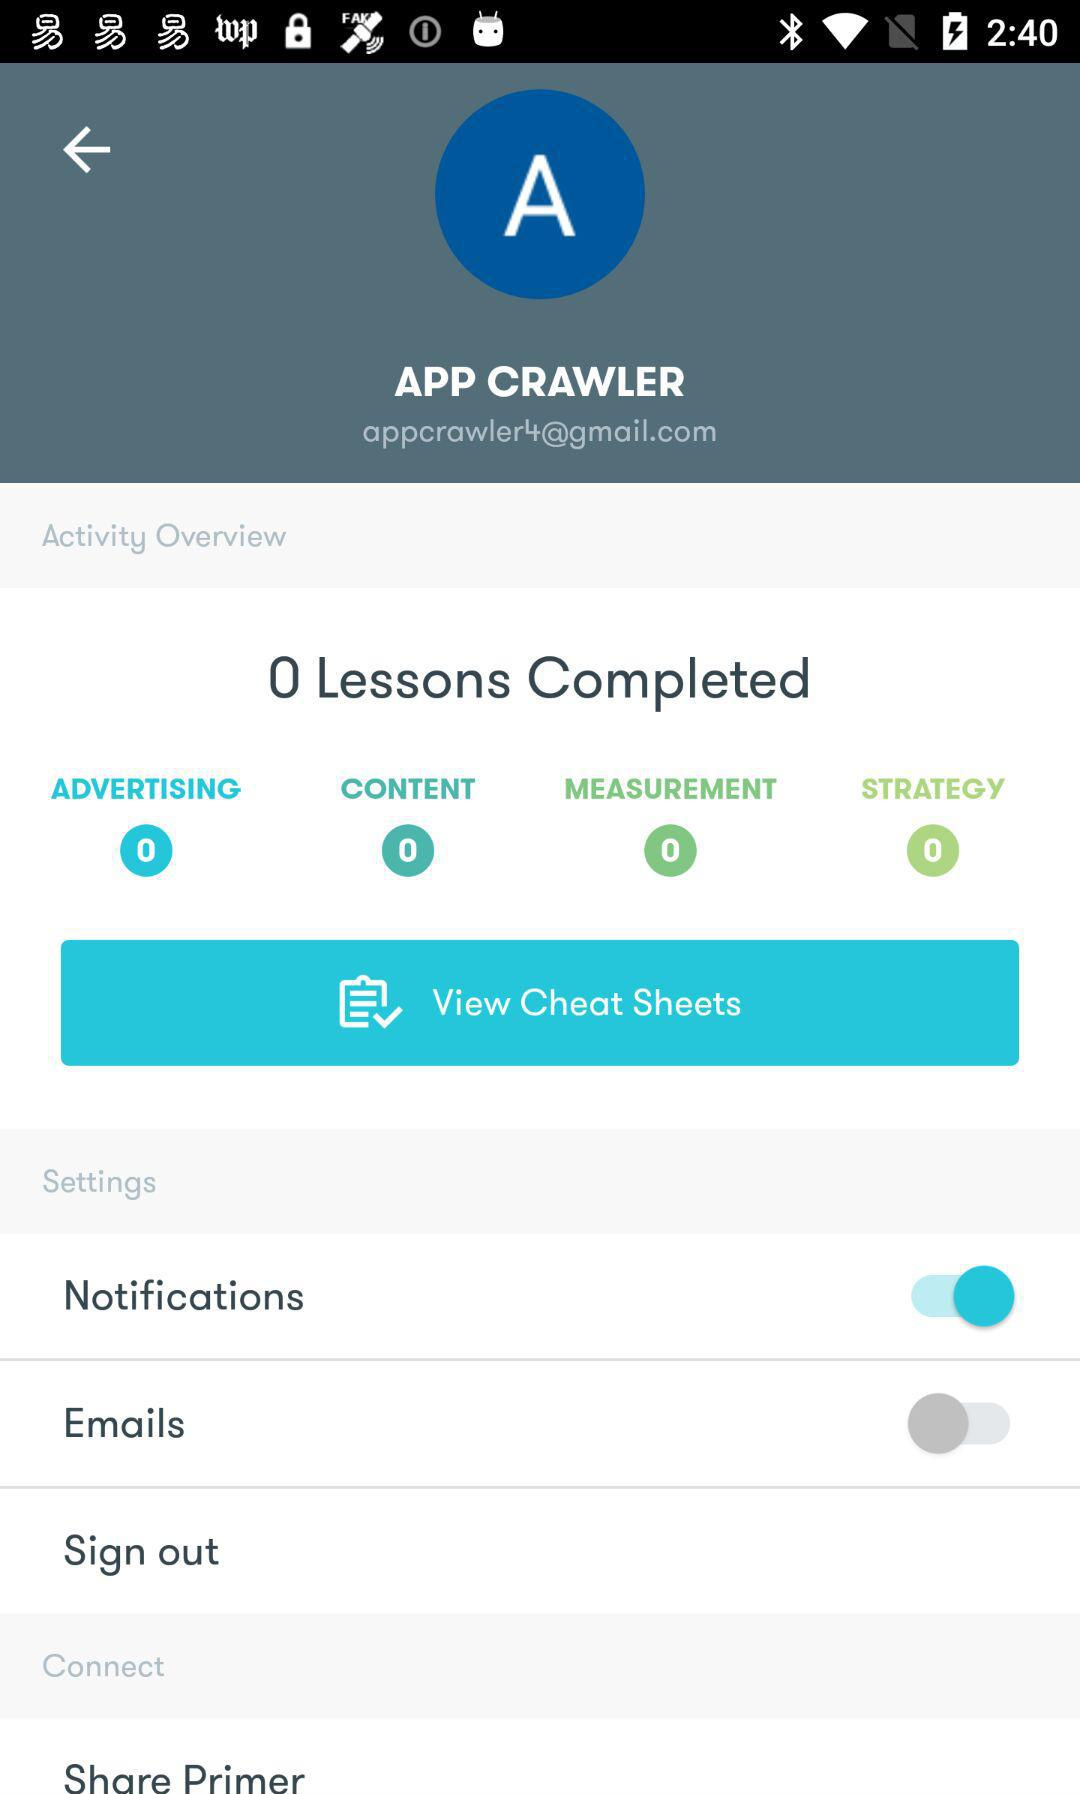Icon: (61, 126, 113, 176)
Image: (434, 88, 646, 302), (644, 824, 698, 879), (382, 824, 436, 879), (906, 824, 960, 878), (120, 824, 174, 878)
Switch: (906, 1392, 1012, 1456), (910, 1263, 1016, 1328)
Text: (270, 655, 811, 715), (363, 416, 717, 451), (393, 366, 685, 399), (41, 522, 288, 557), (67, 1278, 305, 1311), (565, 777, 778, 802), (51, 777, 243, 801), (65, 1407, 186, 1440), (42, 1167, 158, 1202), (861, 777, 1007, 802), (341, 777, 478, 801), (44, 1652, 167, 1679)
TextButton: (61, 941, 1020, 1067), (64, 1762, 307, 1794), (64, 1533, 222, 1577)
UpperTaskBar: (1, 1, 1080, 64)
